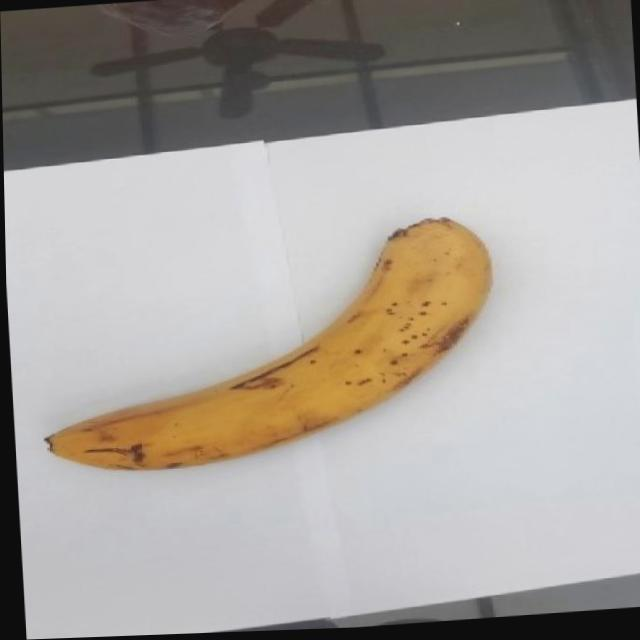Banana: (30, 217, 500, 480)
